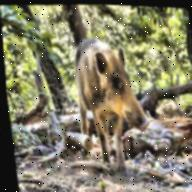boar: (64, 35, 158, 173)
